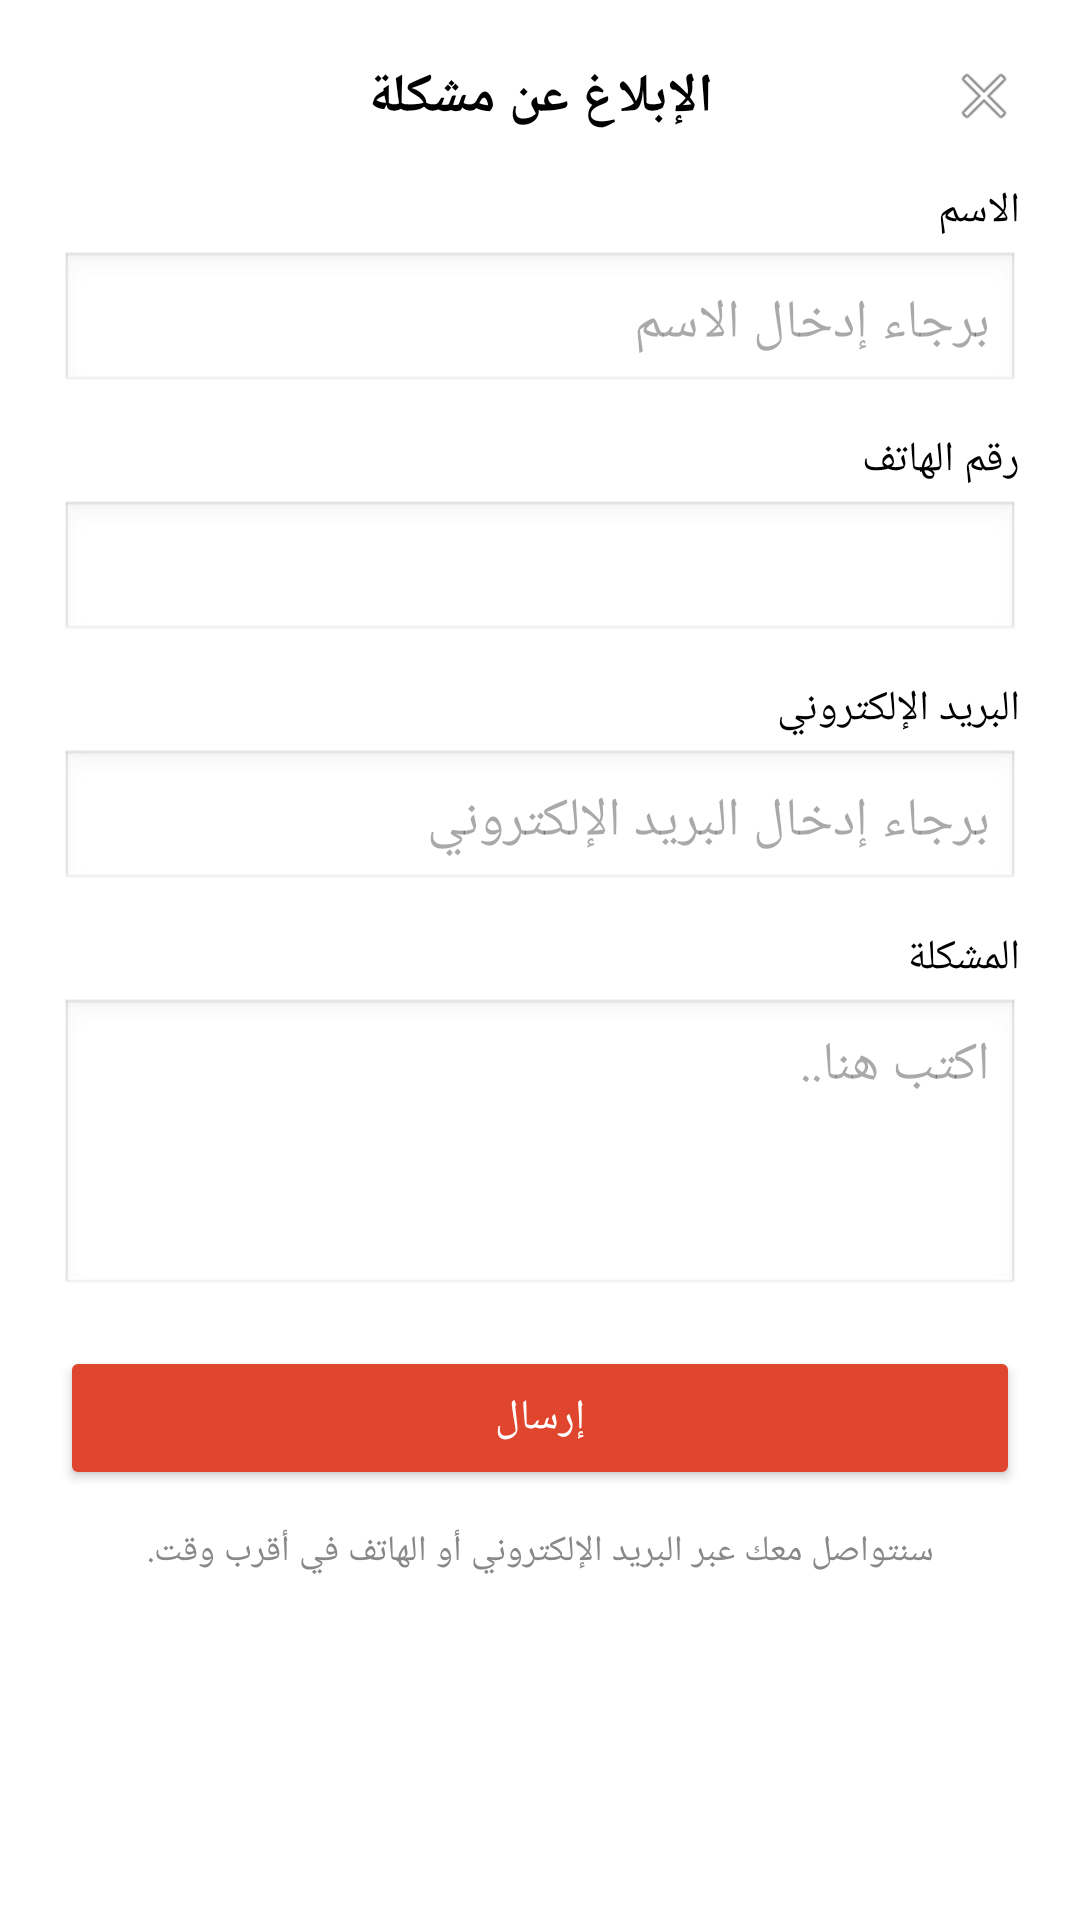

Icon bounding boxes for this 1080px×1920px phone screenshot, format bbox(x1, y1, x2, y2):
close clear cancel: bbox(961, 73, 1007, 119)
